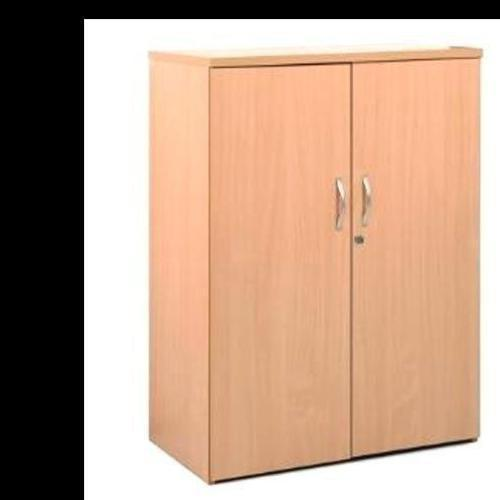Armario: (142, 42, 483, 483)
